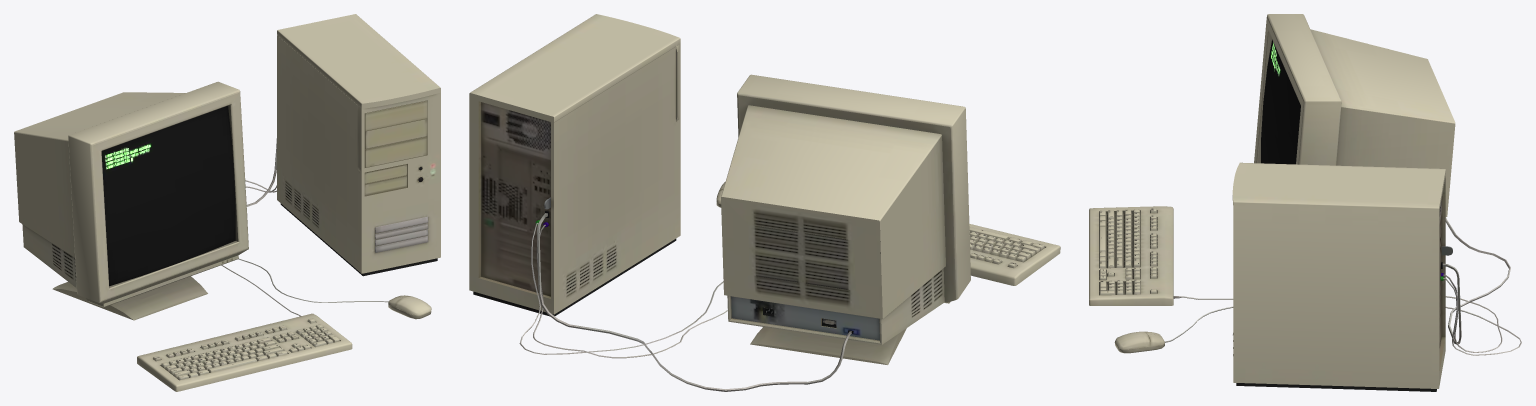
The picture shows the model from 3 angles, left to right: view 1: azimuth 30°, elevation 25°; view 2: azimuth 150°, elevation 25°; view 3: azimuth 270°, elevation 25°; orthographic projection. The views are drawn at different scales.
Parts seen in each view (by area): view 1: retro_computer_setup; view 2: retro_computer_setup; view 3: retro_computer_setup.
Boxes of the visible parts, box(x1,y1,x2,y2) form: retro_computer_setup: box(14, 14, 440, 391); retro_computer_setup: box(469, 14, 1060, 391); retro_computer_setup: box(1089, 14, 1521, 391).
Bounding box in the file's own units: 96.8 × 49.3 × 96.94.
Materials: 1 (1 with a texture image).
